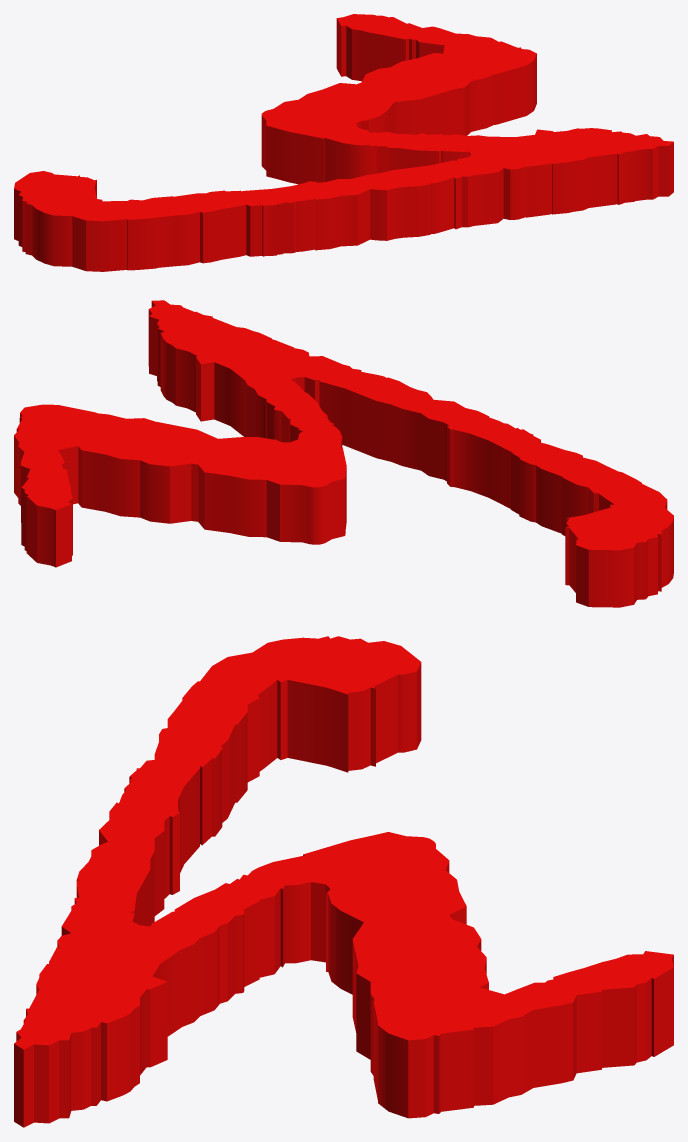
The model's file is original-9.obj.
The picture shows the model from 3 angles, top to bottom: view 1: azimuth 30°, elevation 25°; view 2: azimuth 150°, elevation 25°; view 3: azimuth 270°, elevation 25°; orthographic projection. The views are drawn at different scales.
Visible parts, largest first — view 1: mesh8/mesh8-geometry#mesh8-geometry; view 2: mesh8/mesh8-geometry#mesh8-geometry; view 3: mesh8/mesh8-geometry#mesh8-geometry.
Part boxes in pixels (x1=…): mesh8/mesh8-geometry#mesh8-geometry: x1=14, y1=14, x2=673, y2=271; mesh8/mesh8-geometry#mesh8-geometry: x1=14, y1=300, x2=673, y2=607; mesh8/mesh8-geometry#mesh8-geometry: x1=14, y1=636, x2=673, y2=1127.
Size of the model in its own units: 0.1156 by 0.0102 by 0.0779.
